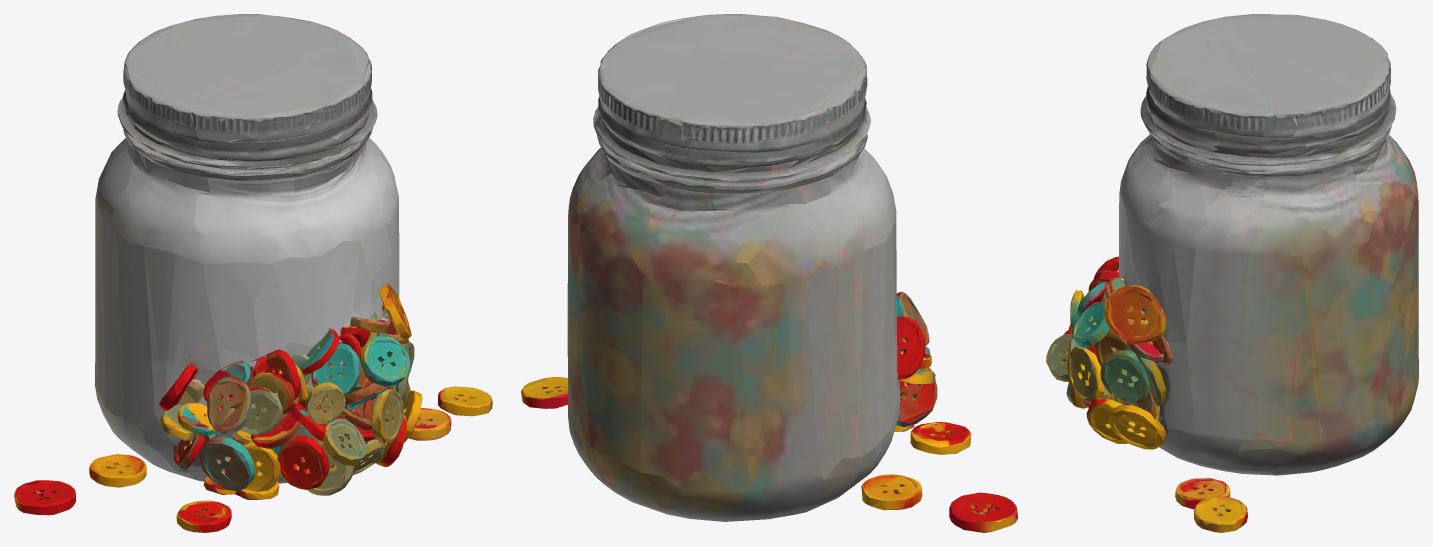
Rendered from buttonjar.glb.
3 views of the same model, side by side, from view 1: azimuth 30°, elevation 25°; view 2: azimuth 150°, elevation 25°; view 3: azimuth 270°, elevation 25° (orthographic). The views are drawn at different scales.
Bounding box in the file's own units: 1.9 × 1.48 × 1.35.
Materials: 1 (1 with a texture image).
